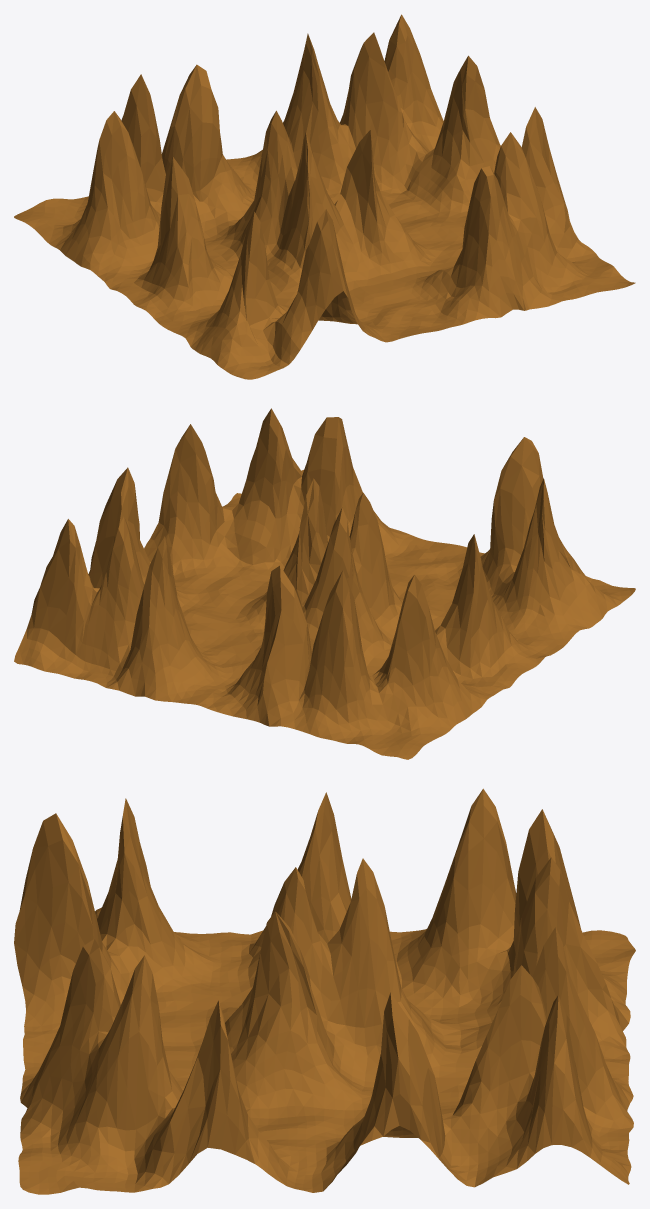
Rendered from track.obj.
3 renders of one model, top to bottom at view 1: azimuth 30°, elevation 25°; view 2: azimuth 150°, elevation 25°; view 3: azimuth 270°, elevation 25°, orthographic. The views are drawn at different scales.
Visible parts, largest first — view 1: Grid.001; view 2: Grid.001; view 3: Grid.001.
Part boxes in pixels (x1,y1,x2,y2): Grid.001: [14, 14, 635, 379]; Grid.001: [14, 408, 635, 759]; Grid.001: [14, 788, 635, 1194].
Bounding box in the file's own units: 4.55 × 1.56 × 4.56.
